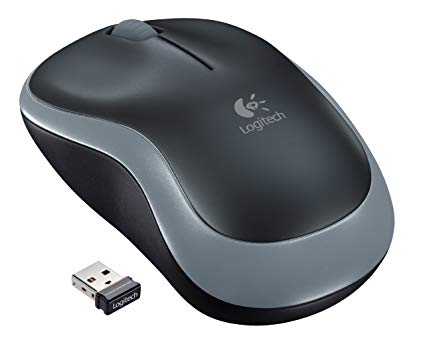logitech-mouse-m185: (21, 18, 399, 325)
